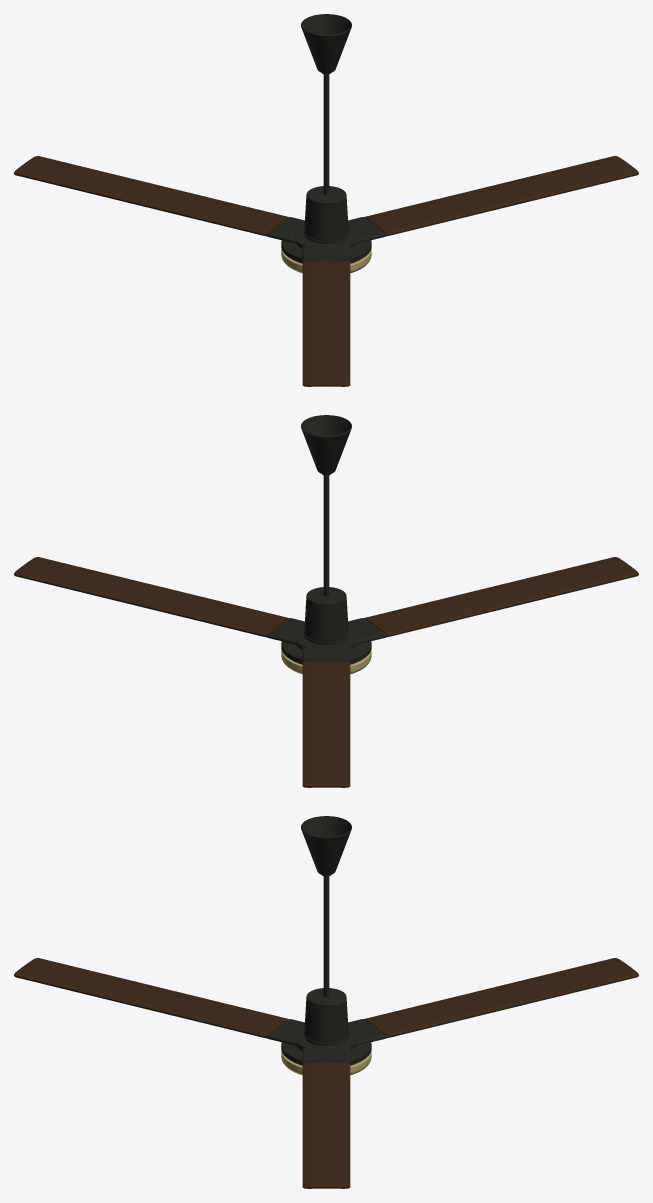
Rendered from fan.fbx.
3 renders of one model, top to bottom at view 1: azimuth 30°, elevation 25°; view 2: azimuth 150°, elevation 25°; view 3: azimuth 270°, elevation 25°, orthographic.
Parts seen in each view (by area): view 1: polySurface23, polySurface27; view 2: polySurface23, polySurface27; view 3: polySurface23, polySurface27.
Part boxes in pixels (left/top/right/bottom): polySurface23: left=14, top=156, right=638, bottom=386; polySurface27: left=281, top=14, right=371, bottom=273; polySurface23: left=14, top=557, right=638, bottom=787; polySurface27: left=281, top=415, right=371, bottom=674; polySurface23: left=14, top=958, right=638, bottom=1188; polySurface27: left=281, top=816, right=371, bottom=1075.
Bounding box in the file's own units: 97.68 × 46.64 × 113.
